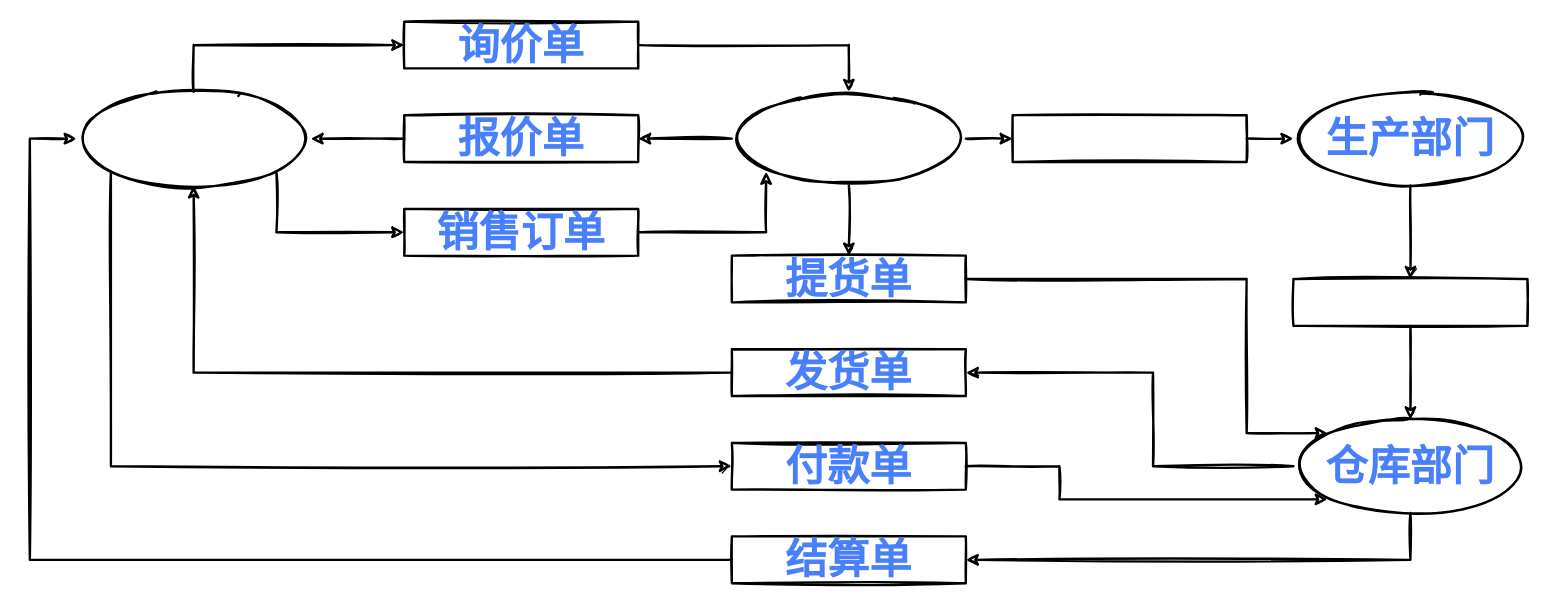
The diagram is 1548 pixels wide and 605 high, and some of its shapes have lost their labels. The box of each missing label's shape, as (x1, y1, x2, y2) in pixels:
入库单: (1292, 277, 1528, 326)
客户: (75, 90, 311, 186)
生产计划单: (1011, 113, 1247, 163)
销售部门: (730, 90, 966, 186)
